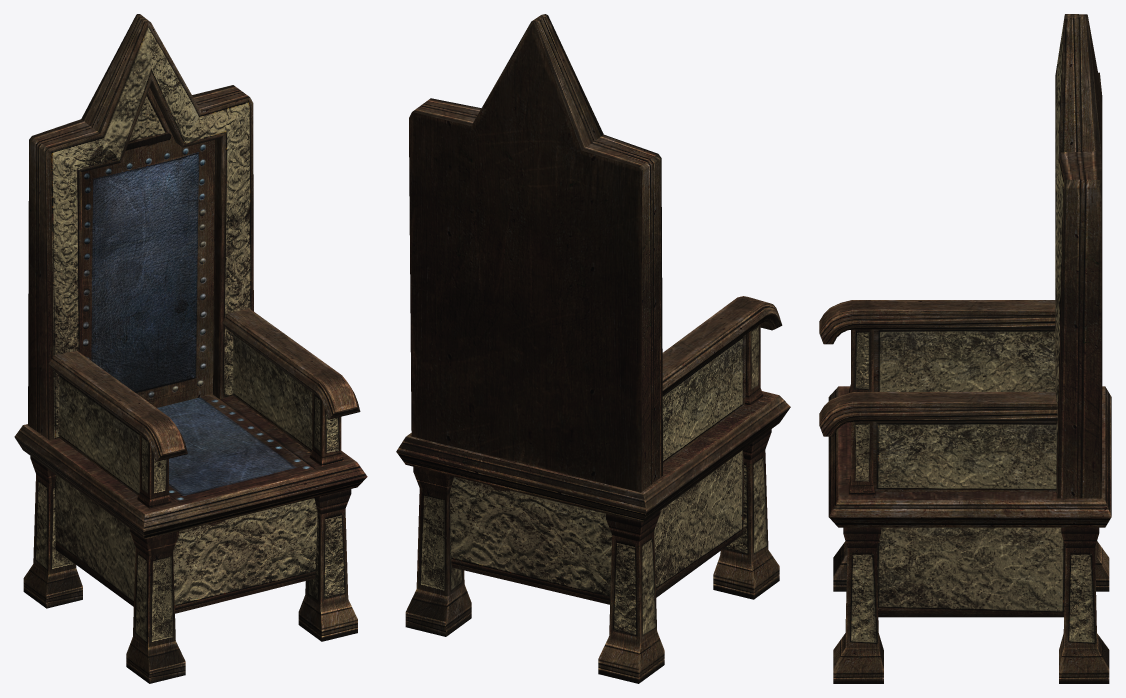
File: Thron.FBX
3 renders of one model, left to right at view 1: azimuth 30°, elevation 25°; view 2: azimuth 150°, elevation 25°; view 3: azimuth 270°, elevation 25°, orthographic. The views are drawn at different scales.
Parts seen in each view (by area): view 1: Thron; view 2: Thron; view 3: Thron.
Boxes of the visible parts, <box> form: Thron: <box>14,14,367,683</box>; Thron: <box>396,14,790,683</box>; Thron: <box>819,14,1111,683</box>.
Size of the model in its own units: 111 by 266 by 115.
